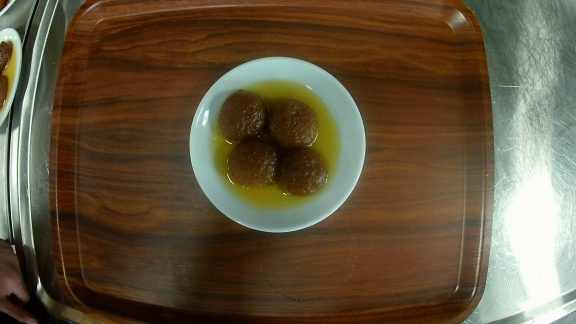kemalpasa: (189, 56, 367, 233)
